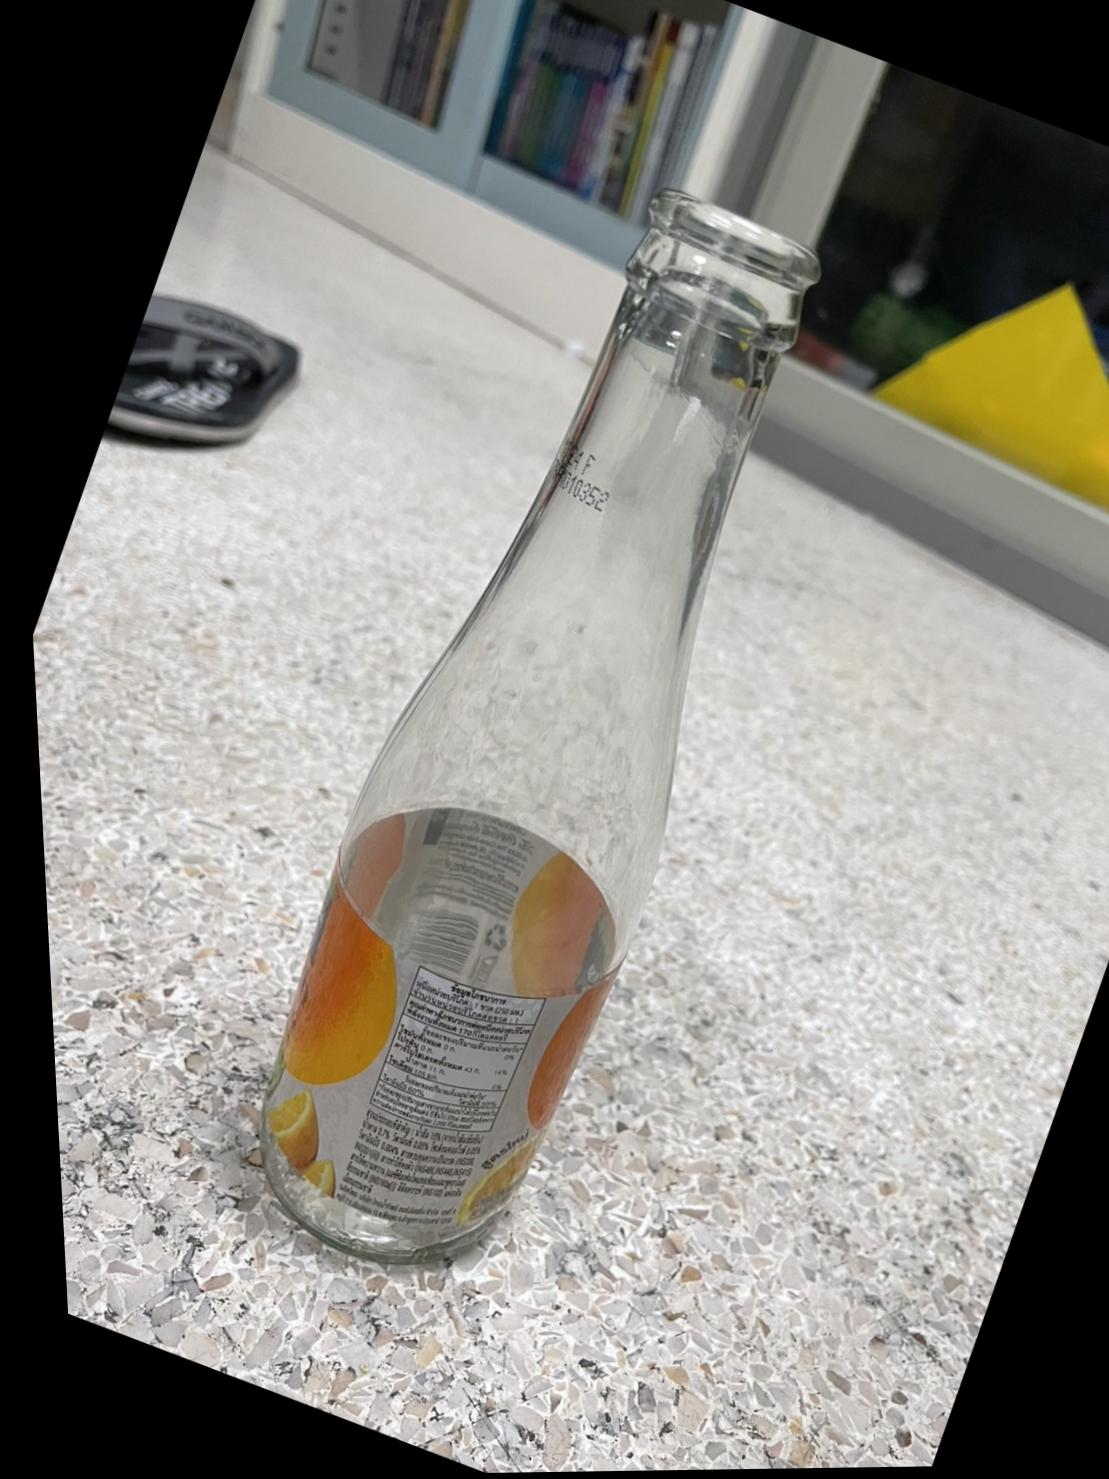glass: (151, 140, 933, 1321)
